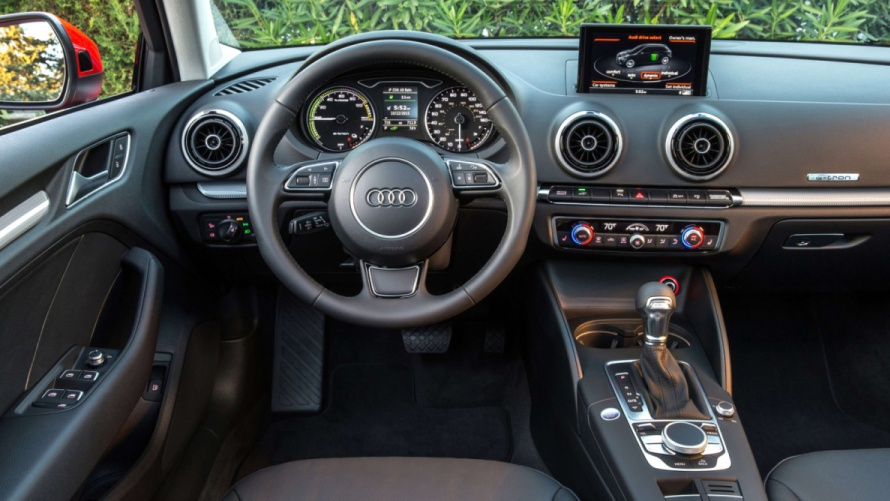audi: (362, 184, 422, 208)
